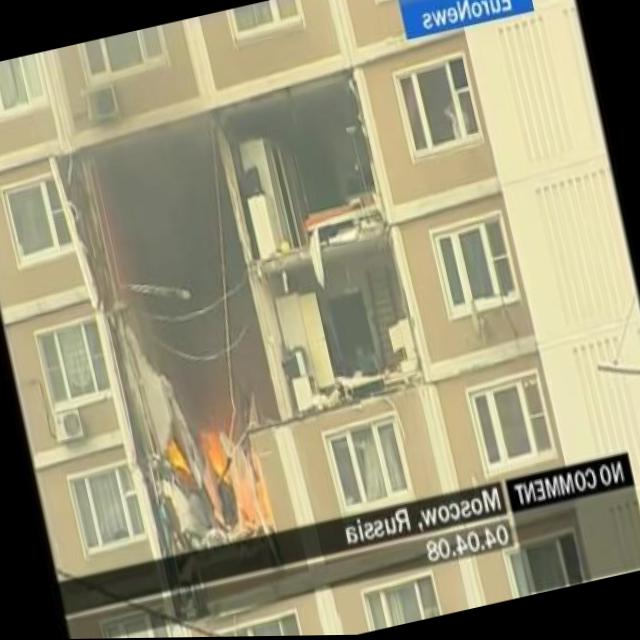fire: (192, 414, 237, 493), (160, 432, 190, 483)
